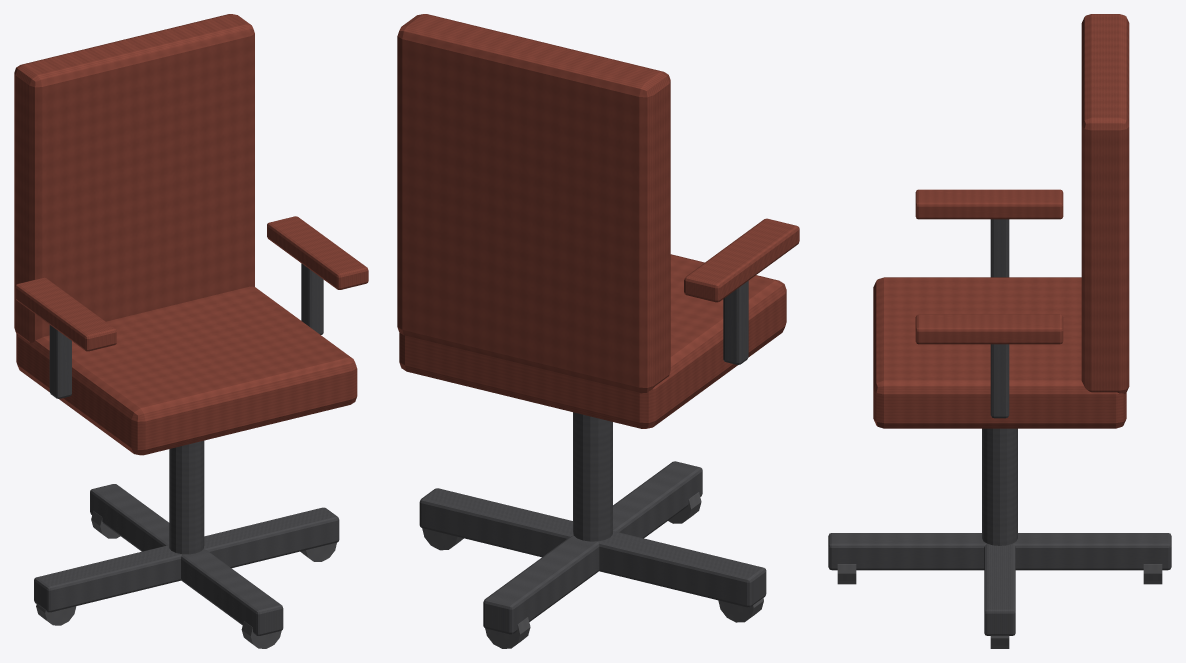
The model's file is office_chair.glb.
The picture shows the model from 3 angles, left to right: view 1: azimuth 30°, elevation 25°; view 2: azimuth 150°, elevation 25°; view 3: azimuth 270°, elevation 25°; orthographic projection. The views are drawn at different scales.
Visible parts, largest first — view 1: MESH_MAT_Chair_Fabric.005, MESH_MAT_Dark_Metal.229, MESH_MAT_Key_Plastic.033; view 2: MESH_MAT_Chair_Fabric.005, MESH_MAT_Dark_Metal.229, MESH_MAT_Key_Plastic.033; view 3: MESH_MAT_Chair_Fabric.005, MESH_MAT_Dark_Metal.229, MESH_MAT_Key_Plastic.033.
Boxes of the visible parts, x1,y1,x2,y2 form: MESH_MAT_Chair_Fabric.005: [14, 14, 368, 455]; MESH_MAT_Dark_Metal.229: [34, 263, 339, 635]; MESH_MAT_Key_Plastic.033: [36, 511, 336, 648]; MESH_MAT_Chair_Fabric.005: [397, 14, 799, 428]; MESH_MAT_Dark_Metal.229: [419, 281, 766, 634]; MESH_MAT_Key_Plastic.033: [422, 492, 763, 648]; MESH_MAT_Chair_Fabric.005: [873, 14, 1129, 428]; MESH_MAT_Dark_Metal.229: [828, 219, 1171, 635]; MESH_MAT_Key_Plastic.033: [837, 564, 1162, 648].
Size of the model in its own units: 0.65 by 1.08 by 0.65.
3 materials, 3 textured.
